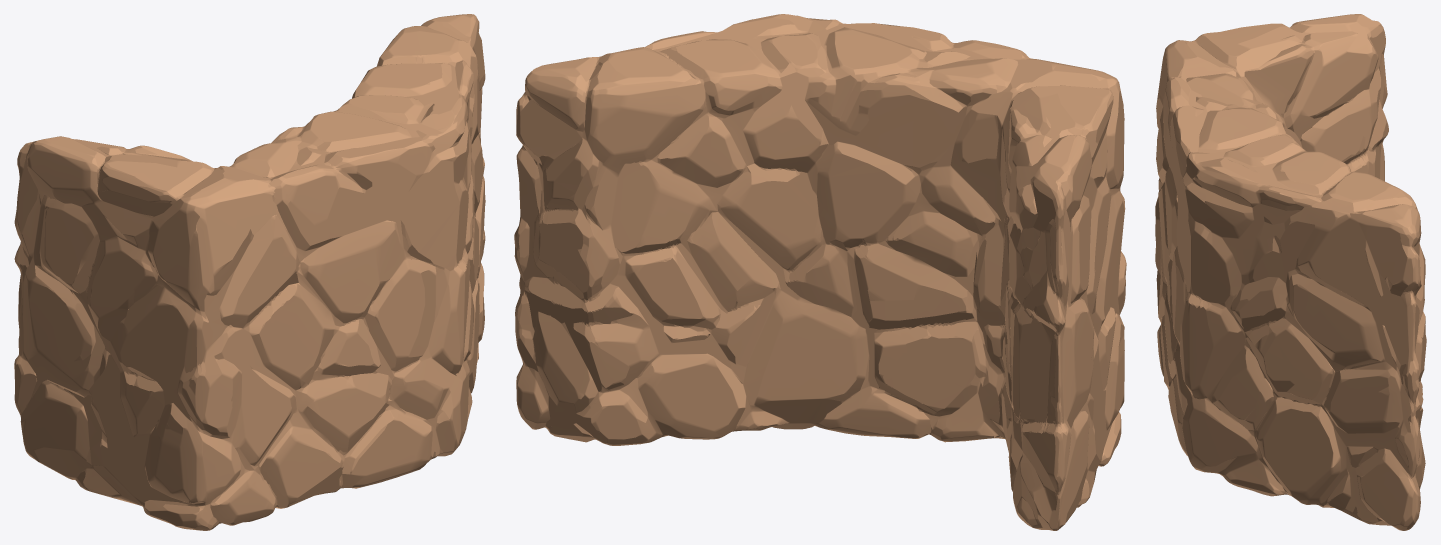
3 views of the same model, side by side, from view 1: azimuth 30°, elevation 25°; view 2: azimuth 150°, elevation 25°; view 3: azimuth 270°, elevation 25° (orthographic). The views are drawn at different scales.
Parts seen in each view (by area): view 1: Mesh_4_LOD0; view 2: Mesh_4_LOD0; view 3: Mesh_4_LOD0.
Part boxes in pixels (x1,y1,x2,y2): Mesh_4_LOD0: (14,14,485,530); Mesh_4_LOD0: (514,14,1126,530); Mesh_4_LOD0: (1155,14,1426,530).
Size of what is drawn, in the model's own units: 5882 by 3914 by 3053.
